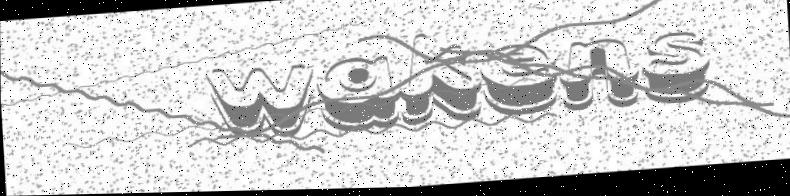a: (316, 53, 402, 135)
e: (479, 40, 564, 123)
k: (398, 26, 485, 132)
n: (559, 34, 645, 119)
s: (639, 31, 716, 113)
w: (199, 60, 319, 143)
